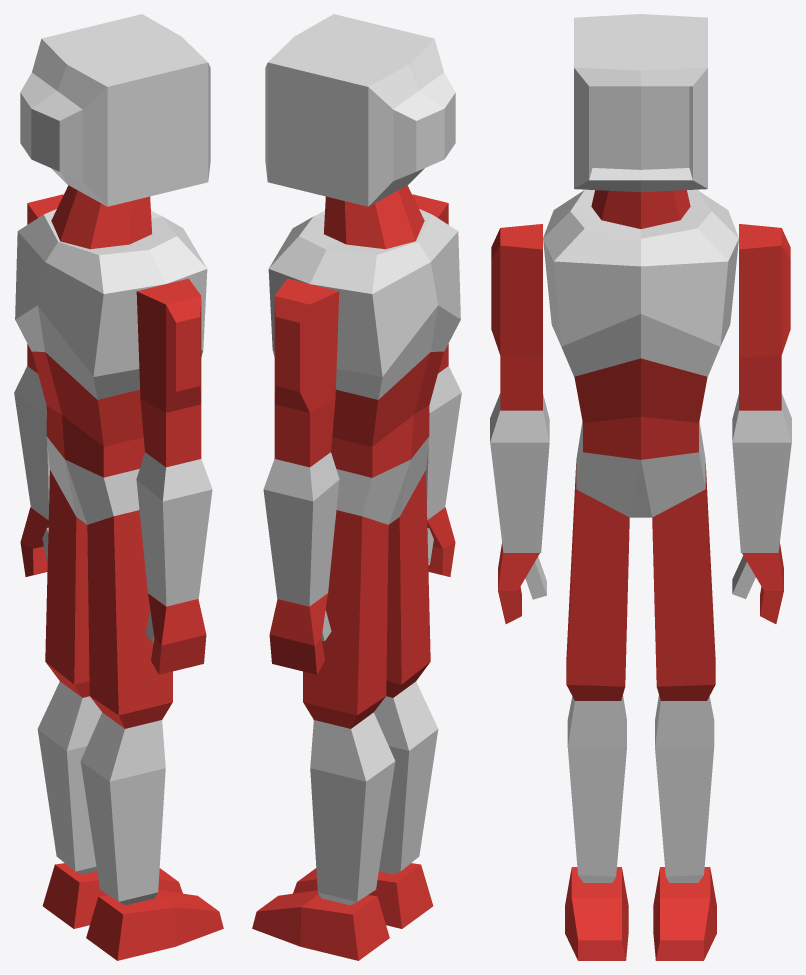
The model's file is Sculpture_FBX.fbx.
The picture shows the model from 3 angles, left to right: view 1: azimuth 30°, elevation 25°; view 2: azimuth 150°, elevation 25°; view 3: azimuth 270°, elevation 25°; orthographic projection.
Visible parts, largest first — view 1: Head, Chest, R_Leg_Sup, L_Leg_Inf.001, R_Arm, R_AvantArm, Belly, L_Leg_Sup, L_Leg_Inf, L_Toe.001, Neck, Hip (+5 smaller); view 2: Head, Chest, L_Leg_Sup, L_Leg_Inf, L_Arm, L_AvantArm, Belly, R_Leg_Sup, L_Leg_Inf.001, L_Toe, Neck, Hip (+5 smaller); view 3: Chest, Head, R_Leg_Sup, L_Leg_Sup, Belly, L_Leg_Inf.001, L_Leg_Inf, L_Arm, R_Arm, L_AvantArm, R_AvantArm, Hip (+6 smaller).
Boxes of the visible parts, bbox=[...] form: Head: bbox=[20, 14, 210, 206]; Chest: bbox=[15, 209, 207, 399]; R_Leg_Sup: bbox=[87, 510, 172, 728]; L_Leg_Inf.001: bbox=[80, 712, 165, 905]; R_Arm: bbox=[136, 278, 201, 467]; R_AvantArm: bbox=[136, 452, 212, 606]; Belly: bbox=[32, 351, 144, 477]; L_Leg_Sup: bbox=[45, 470, 89, 697]; L_Leg_Inf: bbox=[37, 681, 101, 874]; L_Toe.001: bbox=[86, 890, 223, 960]; Neck: bbox=[51, 185, 151, 249]; Hip: bbox=[46, 436, 139, 524]; Head: bbox=[265, 14, 455, 206]; Chest: bbox=[268, 209, 460, 399]; L_Leg_Sup: bbox=[303, 510, 388, 728]; L_Leg_Inf: bbox=[310, 712, 395, 905]; L_Arm: bbox=[274, 278, 339, 467]; L_AvantArm: bbox=[263, 452, 339, 606]; Belly: bbox=[331, 351, 443, 477]; R_Leg_Sup: bbox=[386, 470, 430, 697]; L_Leg_Inf.001: bbox=[374, 681, 438, 874]; L_Toe: bbox=[252, 890, 389, 960]; Neck: bbox=[324, 185, 424, 249]; Hip: bbox=[336, 436, 429, 524]; Chest: bbox=[543, 189, 738, 376]; Head: bbox=[574, 14, 707, 192]; R_Leg_Sup: bbox=[566, 463, 629, 700]; L_Leg_Sup: bbox=[652, 463, 715, 700]; Belly: bbox=[574, 358, 707, 459]; L_Leg_Inf.001: bbox=[567, 695, 626, 882]; L_Leg_Inf: bbox=[655, 695, 714, 882]; L_Arm: bbox=[739, 224, 790, 410]; R_Arm: bbox=[491, 224, 542, 410]; L_AvantArm: bbox=[732, 393, 791, 552]; R_AvantArm: bbox=[490, 393, 549, 552]; Hip: bbox=[576, 421, 705, 517].
Bounding box in the file's own units: 200 × 1024 × 316.
